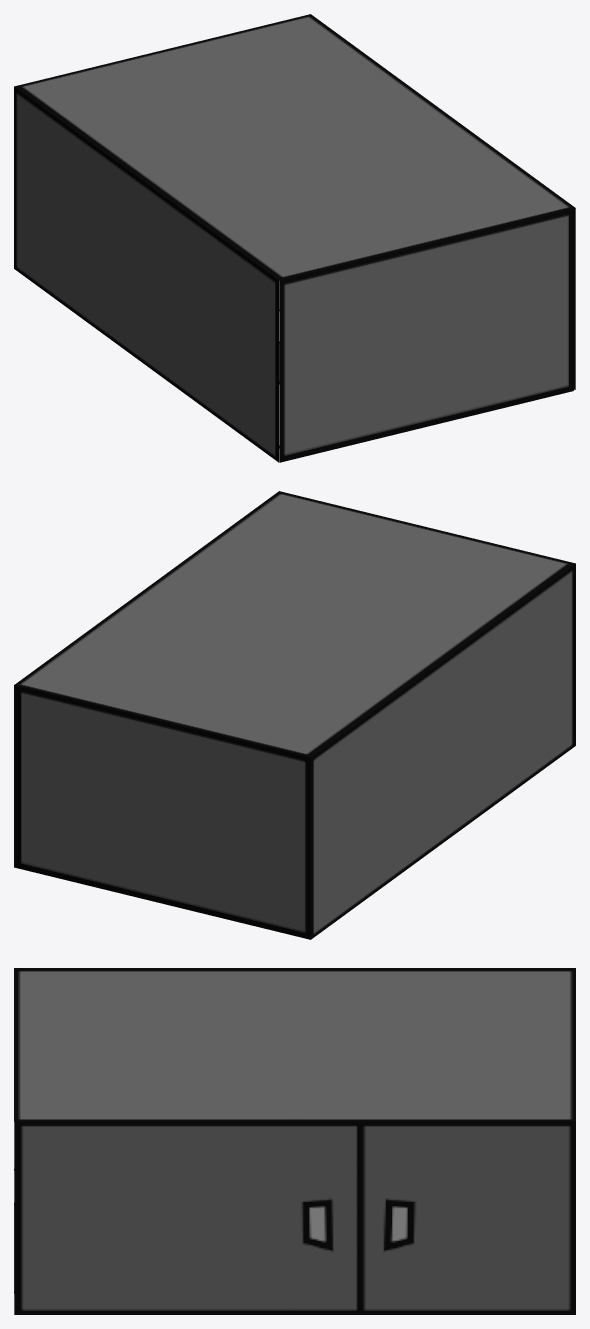
Rendered from KitchenTable.fbx.
3 renders of one model, top to bottom at view 1: azimuth 30°, elevation 25°; view 2: azimuth 150°, elevation 25°; view 3: azimuth 270°, elevation 25°, orthographic. The views are drawn at different scales.
Parts seen in each view (by area): view 1: KitchenTable; view 2: KitchenTable; view 3: KitchenTable.
Boxes of the visible parts, x1,y1,x2,y2 form: KitchenTable: (14,14,575,462); KitchenTable: (14,491,575,939); KitchenTable: (14,968,575,1314).
Bounding box in the file's own units: 200 × 117 × 309.
